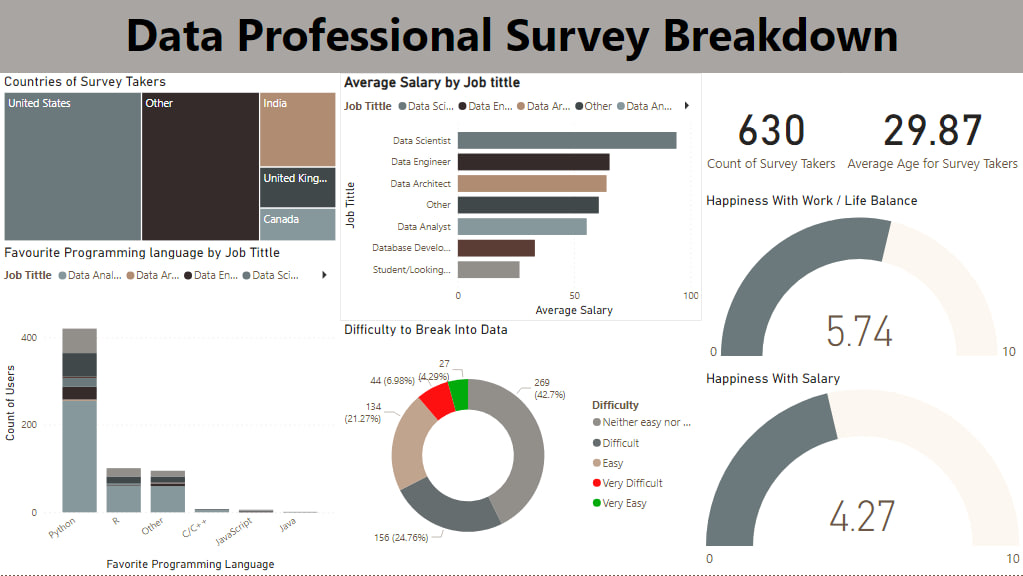

The dashboard page shown, as its layout file describes it:
{"tool":"powerbi","page":{"name":"Page 1","canvas":[1280,720],"ordinal":0},"visuals":[{"type":"textbox","box":[0,0,1280,93.1],"z":0},{"type":"card","fields":{"Values":["Count(Data Professional Survey.Unique ID)"]},"box":[878,93,173,148],"z":1000},{"type":"card","fields":{"Values":["Avg(Data Professional Survey.Q10 - Current Age)"]},"box":[1051,93,229,148],"z":2000},{"type":"barChart","title":"Average Salary by Job tittle","fields":{"Category":["Data Professional Survey.Q1 - Which Title Best Fits your Current Role?.1"],"Y":["Avg(Data Professional Survey.Average Salary)"],"Series":["Data Professional Survey.Q1 - Which Title Best Fits your Current Role?.1"]},"box":[425,93,453,310],"z":3000},{"type":"columnChart","title":"Favourite Programming language by  Job Tittle","fields":{"Category":["Data Professional Survey.Q5 - Favorite Programming Language.1"],"Y":["CountNonNull(Data Professional Survey.Unique ID)"],"Series":["Data Professional Survey.Q1 - Which Title Best Fits your Current Role?.1"]},"box":[0,306.2,425,413.8],"z":3001},{"type":"treemap","title":"Countries of Survey Takers","fields":{"Group":["Data Professional Survey.Q11 - Which Country do you live in?.1"],"Values":["CountNonNull(Data Professional Survey.Q11 - Which Country do you live in?.1)"]},"box":[0,92.5,425,215],"z":3002},{"type":"gauge","title":"Happiness With Work / Life Balance","fields":{"Y":["Avg(Data Professional Survey.Q6 - How Happy are you in your Current Position with the following? (Work/Life Balance))"],"MinValue":["Min(Data Professional Survey.Q6 - How Happy are you in your Current Position with the following? (Work/Life Balance))"],"MaxValue":["Max(Data Professional Survey.Q6 - How Happy are you in your Current Position with the following? (Work/Life Balance))"]},"box":[878,241,402,223],"z":3003},{"type":"gauge","title":"Happiness With Salary","fields":{"Y":["Avg(Data Professional Survey.Q6 - How Happy are you in your Current Position with the following? (Salary))"],"MinValue":["Min(Data Professional Survey.Q6 - How Happy are you in your Current Position with the following? (Salary))"],"MaxValue":["Max(Data Professional Survey.Q6 - How Happy are you in your Current Position with the following? (Salary))"]},"box":[878,464,402,256],"z":3004},{"type":"donutChart","title":"Difficulty to Break Into Data","fields":{"Category":["Data Professional Survey.Q7 - How difficult was it for you to break into Data?"],"Y":["CountNonNull(Data Professional Survey.Q7 - How difficult was it for you to break into Data?)"]},"box":[425,403,453,317],"z":3005}]}

Visuals, with their boxes in screenshot pixels (x1, y1, x2, y2), scaled from the page's 1280x720 canvas onto the 1023x576 screenshot:
textbox: {"x1": 0, "y1": 0, "x2": 1022, "y2": 74}
card - Count(Data Professional Survey.Unique ID): {"x1": 702, "y1": 74, "x2": 840, "y2": 193}
card - Avg(Data Professional Survey.Q10 - Current Age): {"x1": 840, "y1": 74, "x2": 1022, "y2": 193}
"Average Salary by Job tittle" barChart: {"x1": 340, "y1": 74, "x2": 702, "y2": 322}
"Favourite Programming language by  Job Tittle" columnChart: {"x1": 0, "y1": 245, "x2": 340, "y2": 575}
"Countries of Survey Takers" treemap: {"x1": 0, "y1": 74, "x2": 340, "y2": 246}
"Happiness With Work / Life Balance" gauge: {"x1": 702, "y1": 193, "x2": 1022, "y2": 371}
"Happiness With Salary" gauge: {"x1": 702, "y1": 371, "x2": 1022, "y2": 575}
"Difficulty to Break Into Data" donutChart: {"x1": 340, "y1": 322, "x2": 702, "y2": 575}
